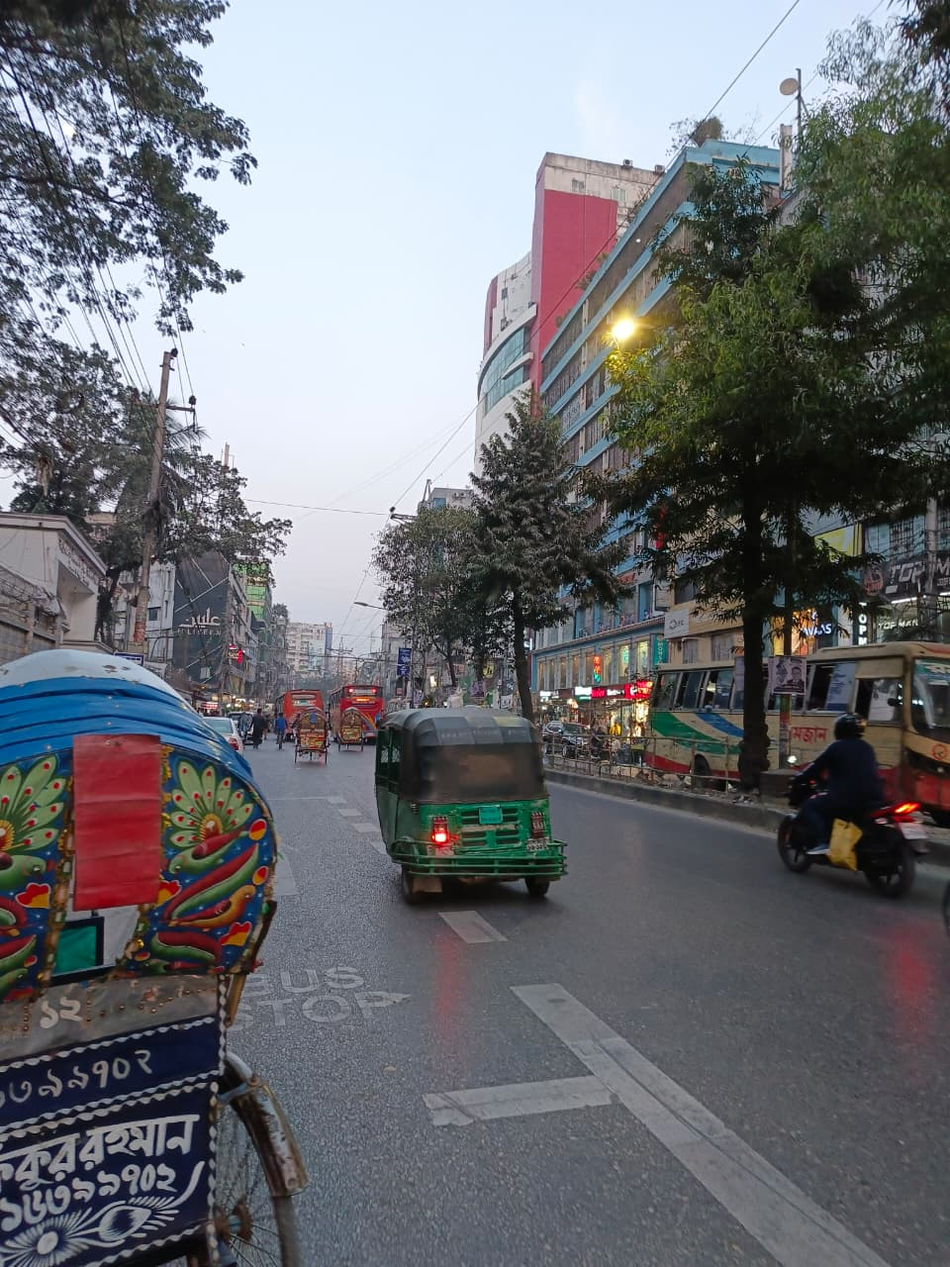Bikes: (782, 733, 950, 931)
Bus: (643, 643, 950, 771), (273, 676, 327, 735), (339, 681, 390, 706)
auto-ricksaw: (2, 609, 329, 1267), (290, 710, 333, 767), (339, 698, 370, 753)
cng: (376, 683, 590, 921)
